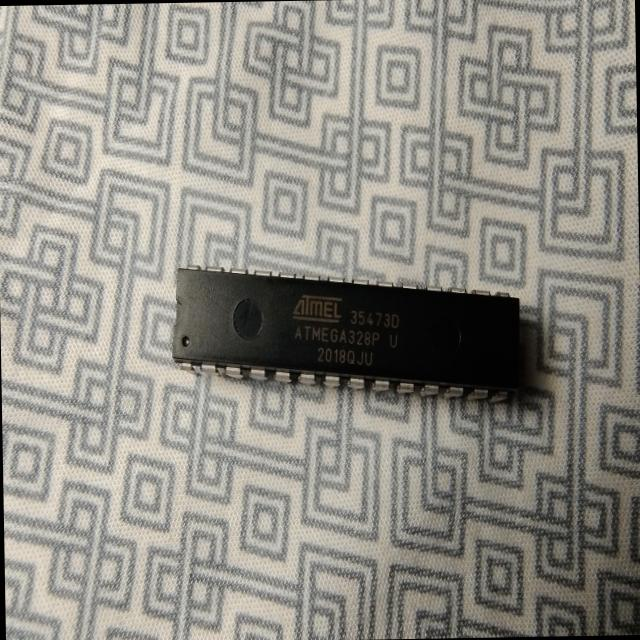atmega: (168, 256, 524, 410)
